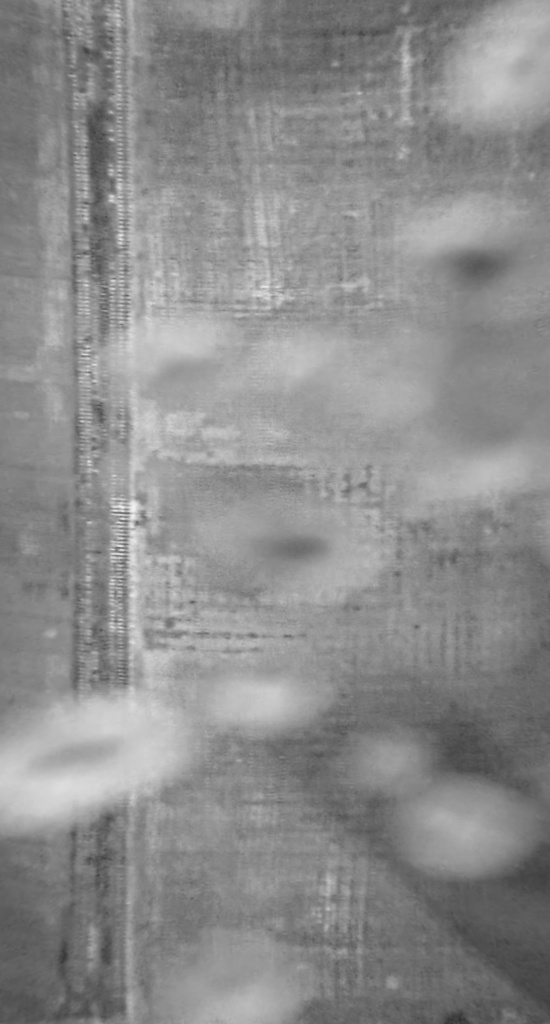splice: (38, 1, 135, 1023)
